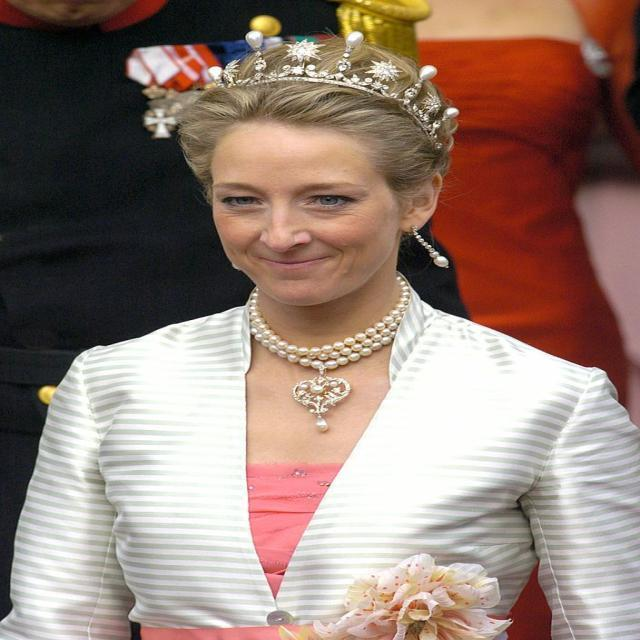Earring: (412, 222, 455, 279)
